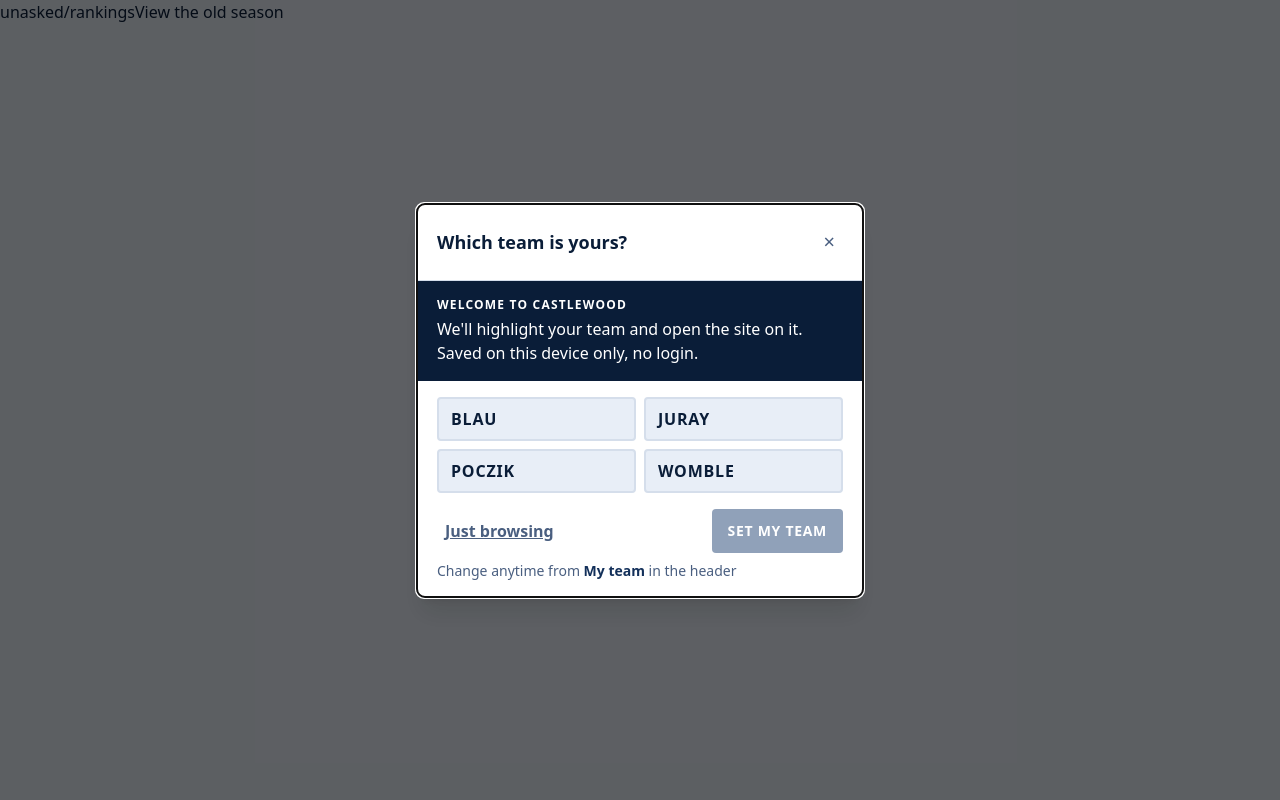
Test: MyTeamPicker › keeps the team for this visit when storage refuses the write
Click the button "BLAU". click: (536, 418)
box: x1=437 y1=396 x2=636 y2=440
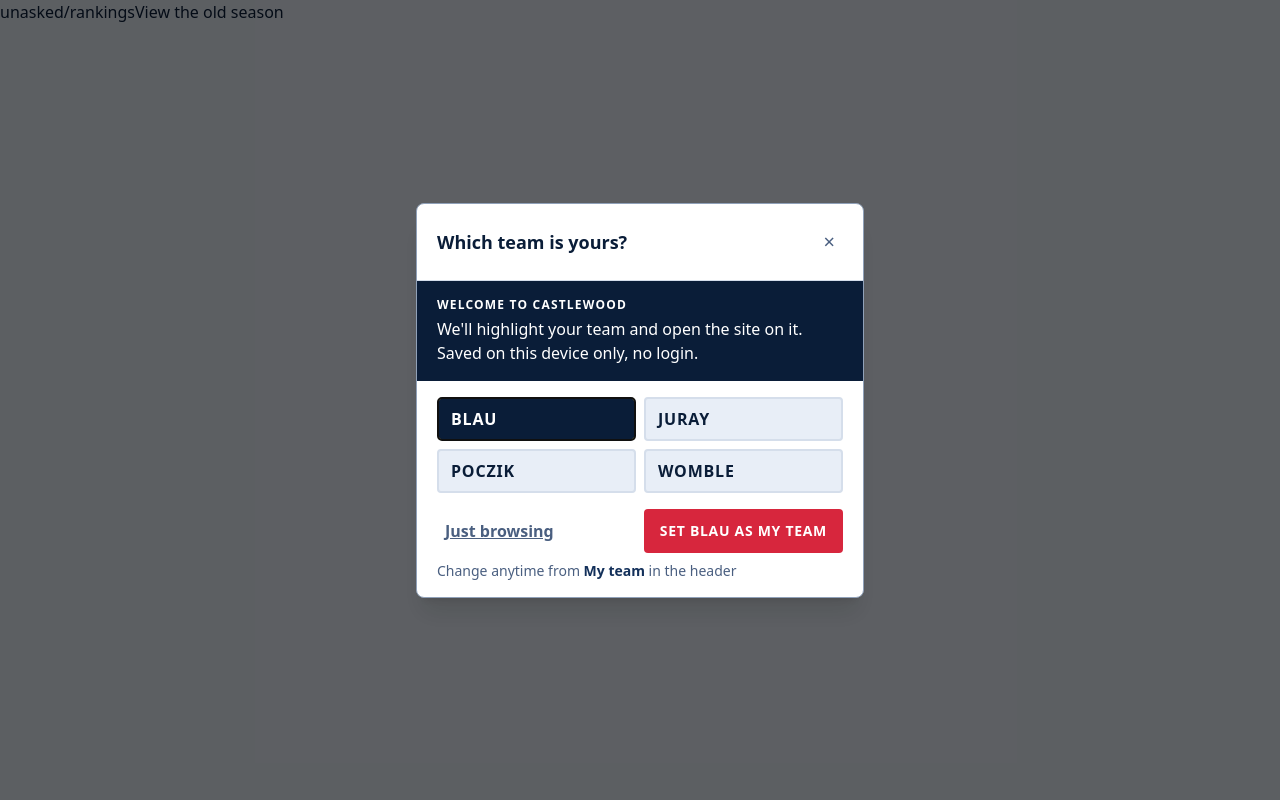
Click the button "Set BLAU as my team". click: (743, 530)
box: x1=644 y1=508 x2=843 y2=552
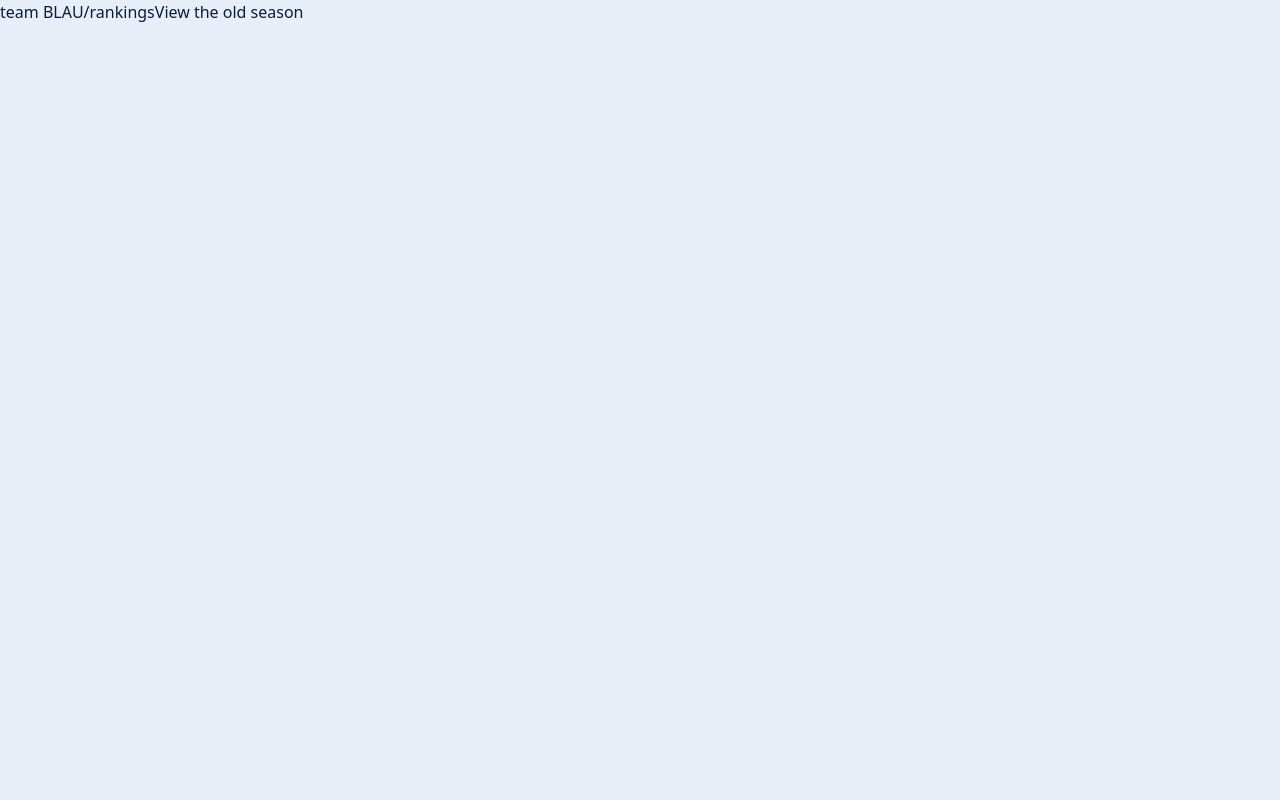
Result: the text named "Choice" reads "team BLAU" at x1=0 y1=1 x2=84 y2=23
Result: the dialog is gone
